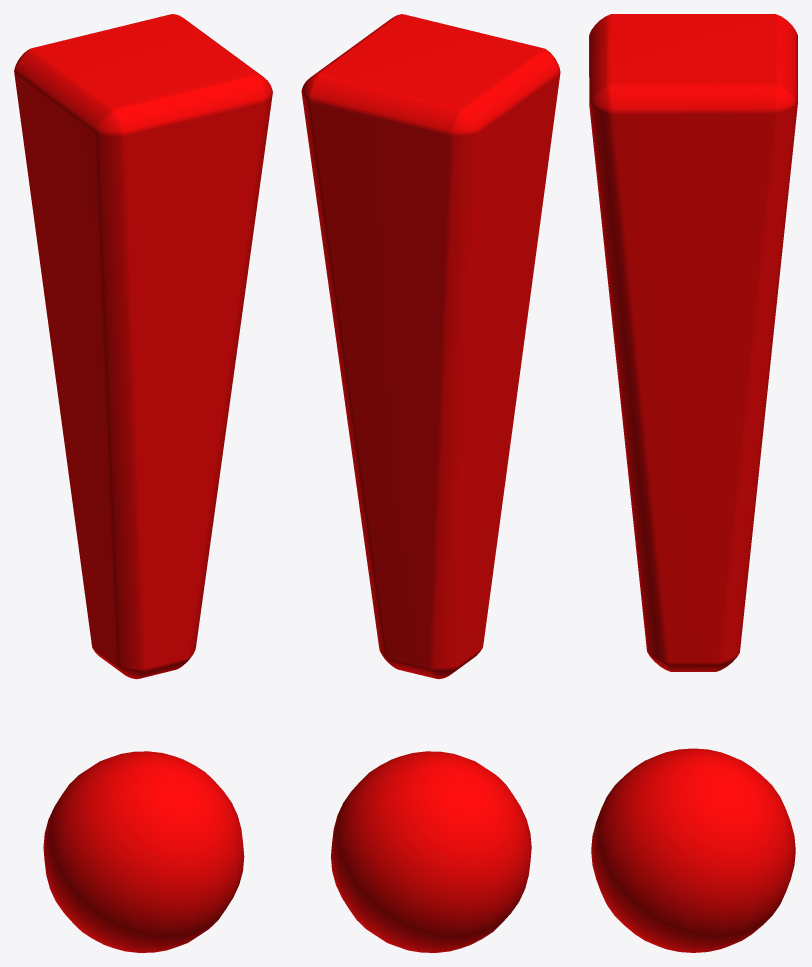
The model's file is exclamation.glb.
3 views of the same model, side by side, from view 1: azimuth 30°, elevation 25°; view 2: azimuth 150°, elevation 25°; view 3: azimuth 270°, elevation 25° (orthographic).
Visible parts, largest first — view 1: pCube1, pSphere1; view 2: pCube1, pSphere1; view 3: pCube1, pSphere1.
Boxes of the visible parts, bbox=[...] form: pCube1: bbox=[14, 14, 272, 679]; pSphere1: bbox=[43, 751, 244, 952]; pCube1: bbox=[301, 14, 560, 679]; pSphere1: bbox=[331, 751, 531, 952]; pCube1: bbox=[589, 14, 797, 671]; pSphere1: bbox=[591, 748, 795, 952].
Size of the model in its own units: 0.0116 by 0.0548 by 0.0116.
